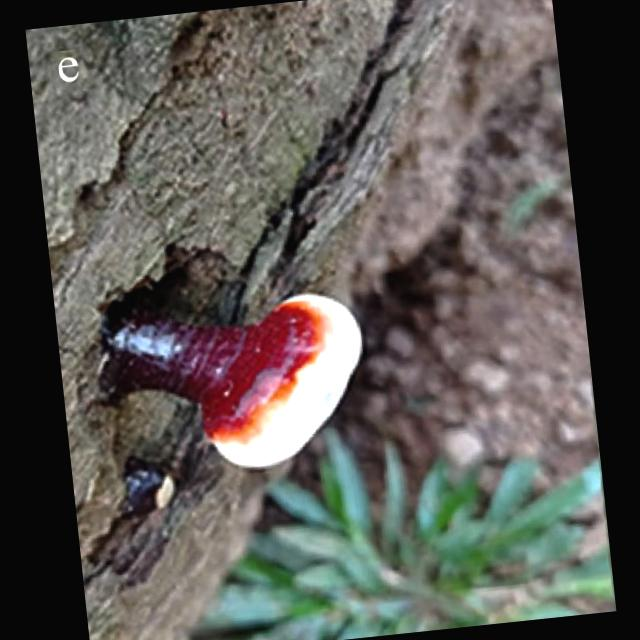ganoderma: (186, 284, 377, 475)
